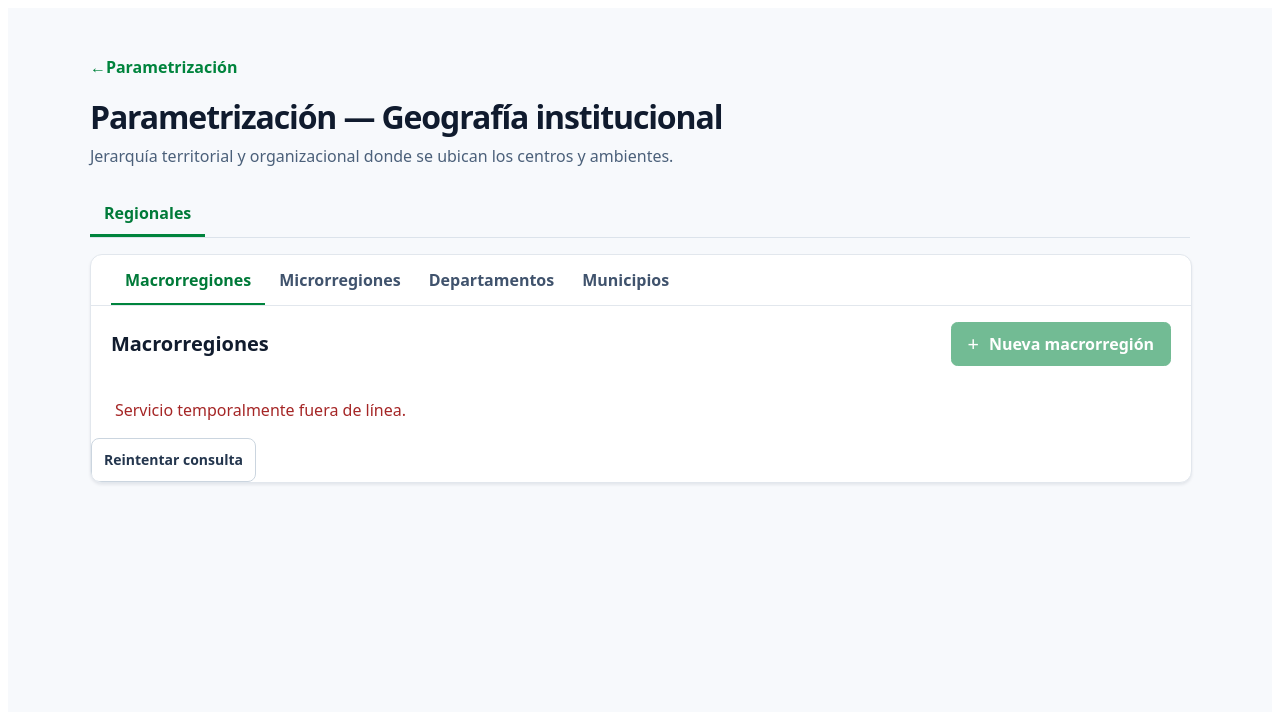
Test: App con respuestas HTTP simuladas (no es integración contra backend) › muestra explícitamente el error HTTP y permite reintentar la consulta
Expected: the message reads "Servicio temporalmente fuera de línea.", x1=115 y1=398 x2=406 y2=420
Click the button "Reintentar consulta": coordinates (173, 460) x1=91 y1=438 x2=256 y2=482
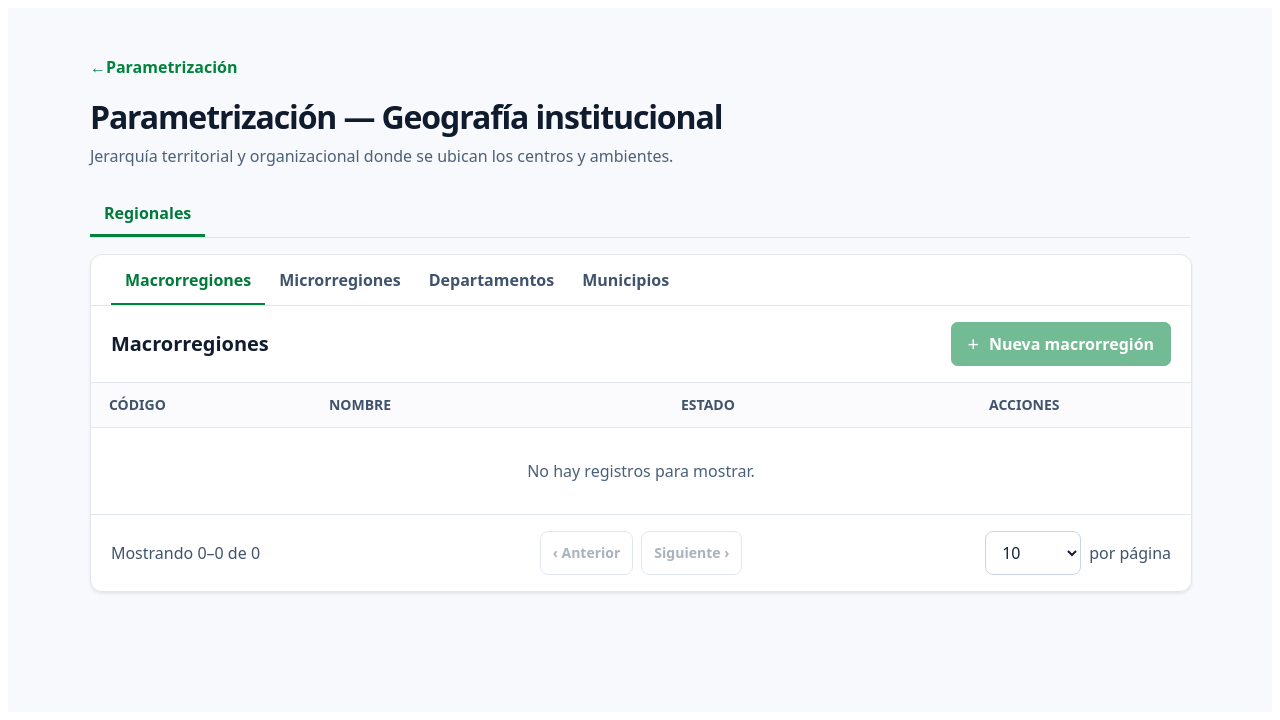
Expected: the text "No hay registros para mostrar." is shown, x1=91 y1=427 x2=1191 y2=514
